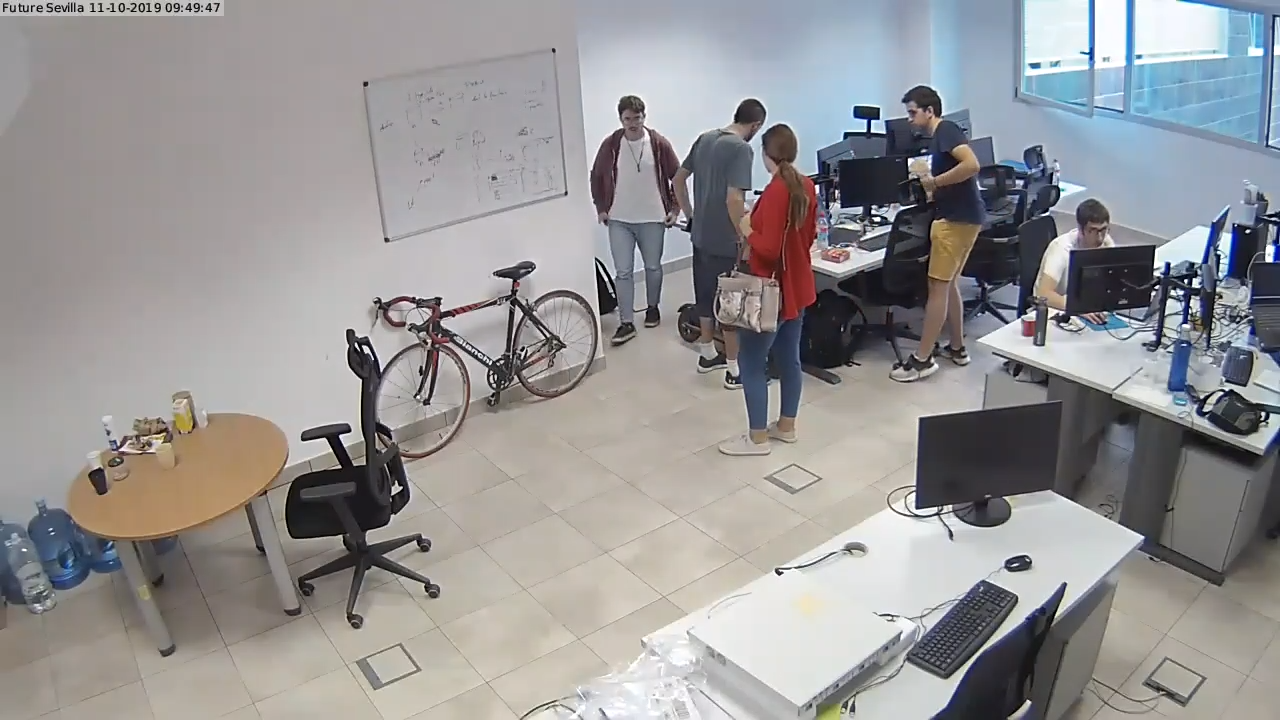head: (898, 81, 952, 140), (1069, 190, 1118, 255), (727, 94, 775, 151), (759, 119, 802, 182), (614, 90, 654, 142)
